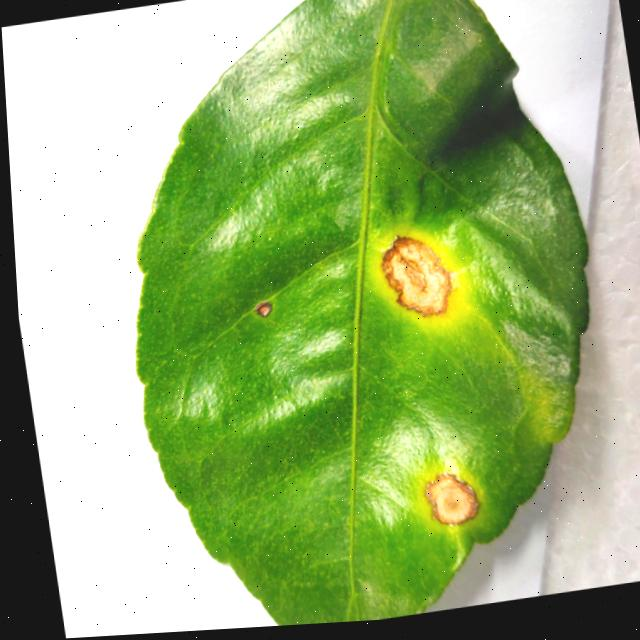antracnose: (136, 0, 587, 626), (380, 237, 450, 316), (425, 474, 477, 524), (253, 301, 271, 317)
